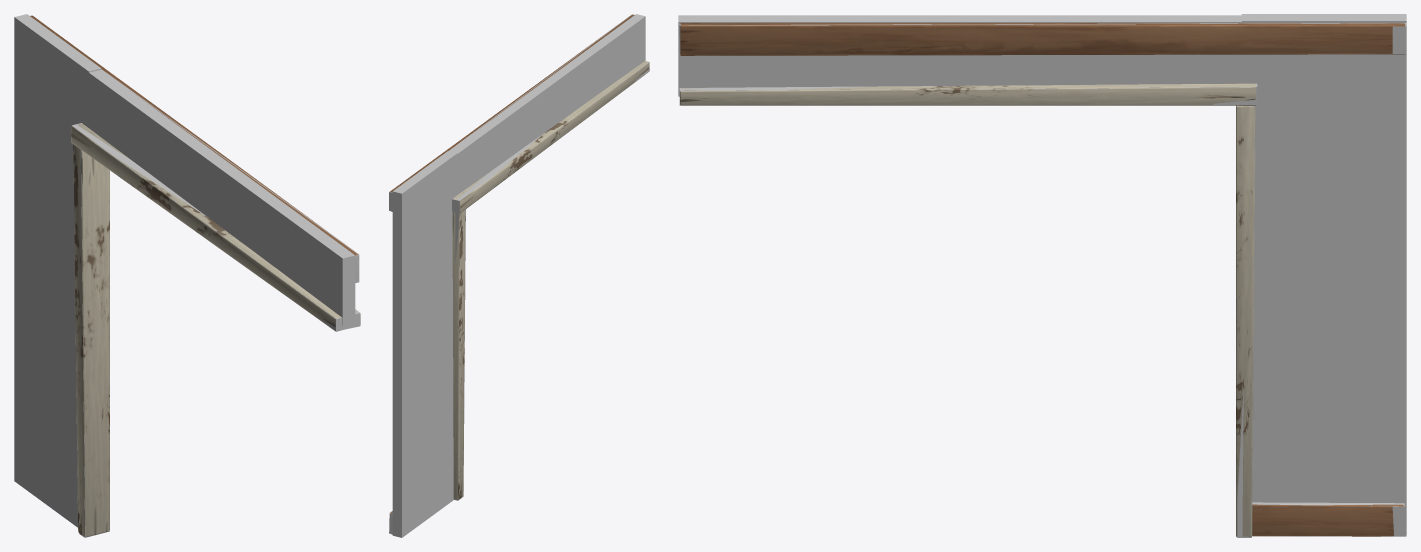
Rendered from SM_Hangar01WD_5.fbx.
The picture shows the model from 3 angles, left to right: view 1: azimuth 30°, elevation 25°; view 2: azimuth 150°, elevation 25°; view 3: azimuth 270°, elevation 25°; orthographic projection. The views are drawn at different scales.
Parts seen in each view (by area): view 1: SM_Hangar01WD_5_ConvexHulls, SM_Hangar01WD_5; view 2: SM_Hangar01WD_5_ConvexHulls, SM_Hangar01WD_5; view 3: SM_Hangar01WD_5_ConvexHulls, SM_Hangar01WD_5.
Boxes of the visible parts, bbox=[...] form: SM_Hangar01WD_5_ConvexHulls: bbox=[14, 14, 360, 537]; SM_Hangar01WD_5: bbox=[30, 15, 360, 536]; SM_Hangar01WD_5_ConvexHulls: bbox=[389, 14, 649, 537]; SM_Hangar01WD_5: bbox=[390, 14, 649, 512]; SM_Hangar01WD_5_ConvexHulls: bbox=[678, 14, 1406, 537]; SM_Hangar01WD_5: bbox=[680, 23, 1405, 536].
Bounding box in the file's own units: 23.93 × 451 × 352.
4 materials, 3 textured.
